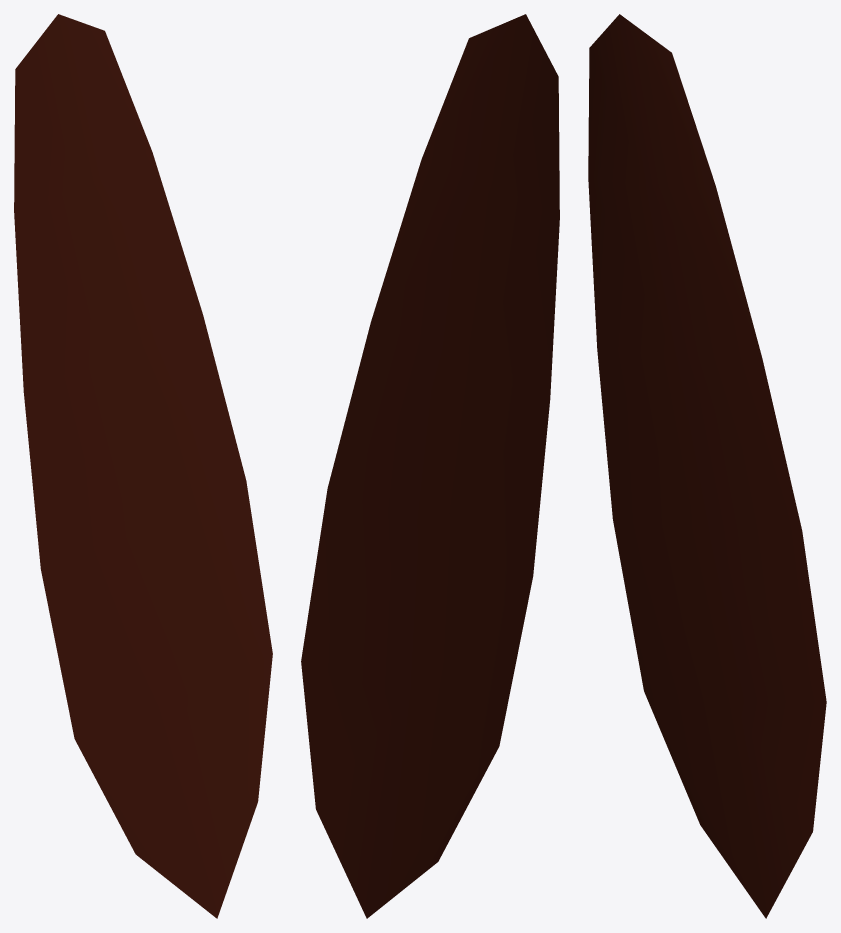
Rendered from pheasant_feather_flight_secondary_013.obj.
3 views of the same model, side by side, from view 1: azimuth 30°, elevation 25°; view 2: azimuth 150°, elevation 25°; view 3: azimuth 330°, elevation 25° (orthographic). The views are drawn at different scales.
Parts seen in each view (by area): view 1: feather_flight_secondary_013; view 2: feather_flight_secondary_013; view 3: feather_flight_secondary_013.
Part boxes in pixels (x1,y1,x2,y2): feather_flight_secondary_013: [14, 14, 272, 918]; feather_flight_secondary_013: [301, 14, 559, 918]; feather_flight_secondary_013: [588, 14, 826, 918].
Size of the model in its own units: 0.0186 by 0.065 by 0.000634.
